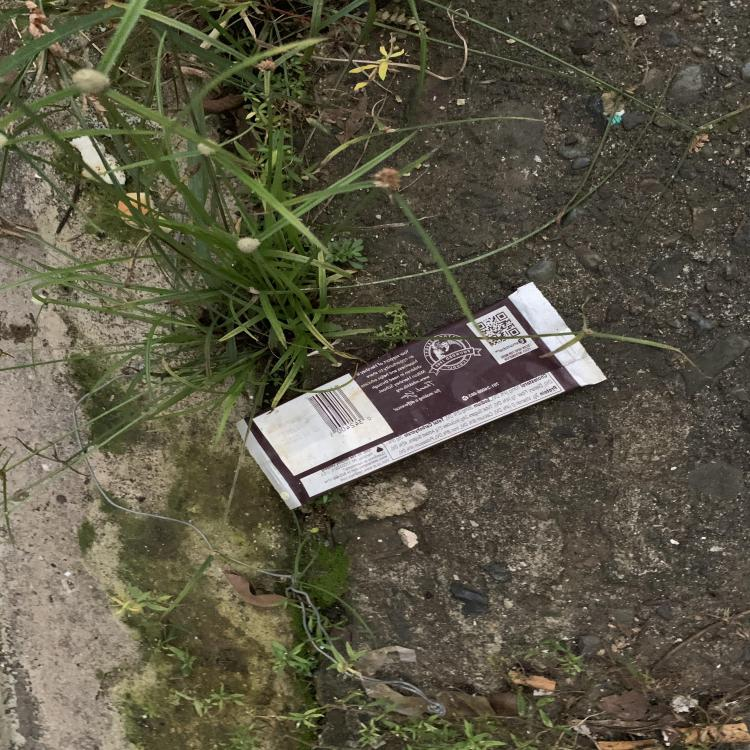Cigarette: (662, 723, 750, 746), (510, 669, 555, 692), (595, 738, 664, 750)
Other plastic: (236, 282, 608, 510), (606, 111, 623, 125)
Plastic film: (354, 645, 498, 721)
